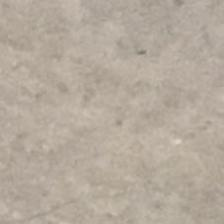Non_Crack: (41, 27, 191, 203)
